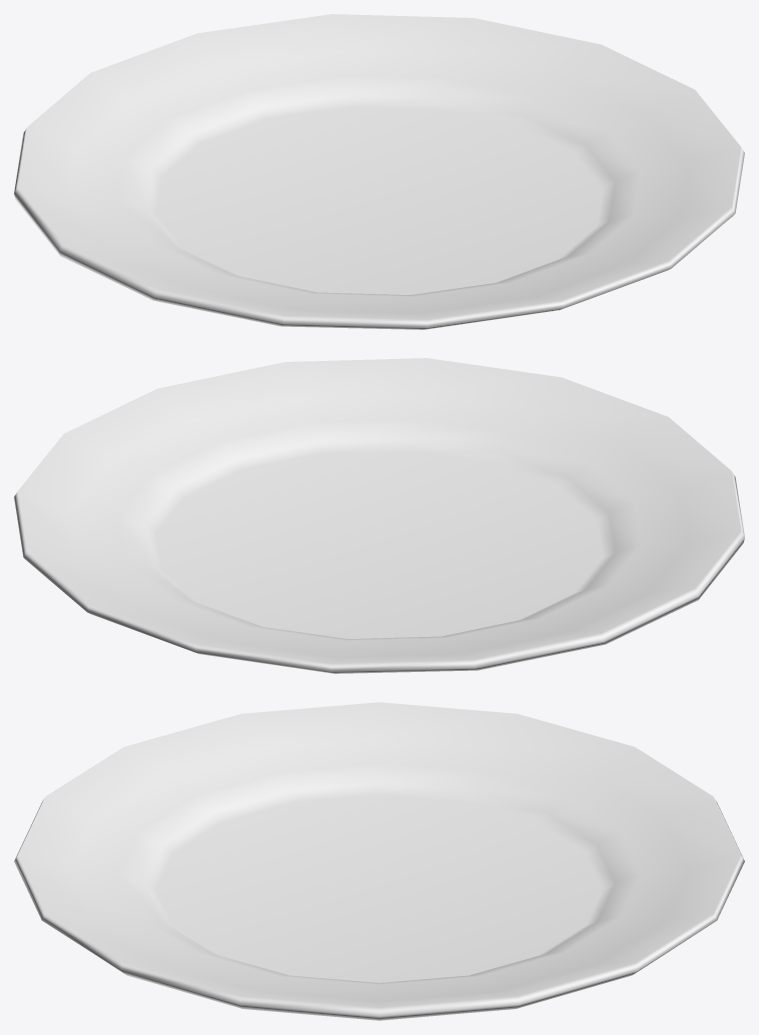
The model's file is SM_Kitchen_Dish.fbx.
3 renders of one model, top to bottom at view 1: azimuth 30°, elevation 25°; view 2: azimuth 150°, elevation 25°; view 3: azimuth 270°, elevation 25°, orthographic.
Visible parts, largest first — view 1: SM_Dish; view 2: SM_Dish; view 3: SM_Dish.
Boxes of the visible parts, box(x1,y1,x2,y2) form: SM_Dish: box(14, 14, 744, 329); SM_Dish: box(14, 358, 744, 673); SM_Dish: box(14, 702, 744, 1020).
Bounding box in the file's own units: 31.07 × 2.68 × 31.07.
